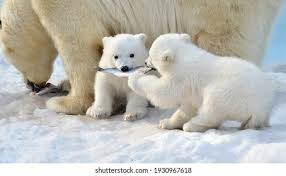PolarBear: (85, 29, 286, 137)
